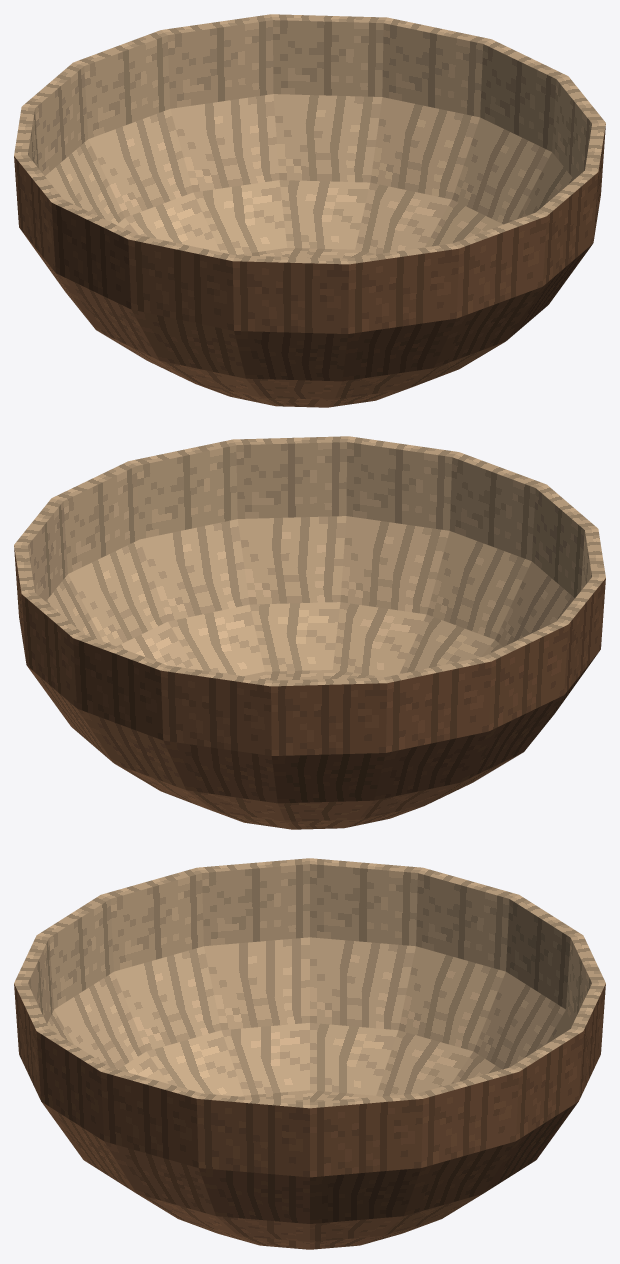
The model's file is bowl_coconut.glb.
3 views of the same model, one above another, from view 1: azimuth 30°, elevation 25°; view 2: azimuth 150°, elevation 25°; view 3: azimuth 270°, elevation 25° (orthographic).
Visible parts, largest first — view 1: block_split coconut shell bowl; view 2: block_split coconut shell bowl; view 3: block_split coconut shell bowl.
Part boxes in pixels (x1=…): block_split coconut shell bowl: x1=14, y1=14, x2=605, y2=407; block_split coconut shell bowl: x1=14, y1=436, x2=605, y2=829; block_split coconut shell bowl: x1=14, y1=858, x2=605, y2=1249.
Size of the model in its own units: 0.117 by 0.0461 by 0.117.
Materials: 1 (1 with a texture image).
